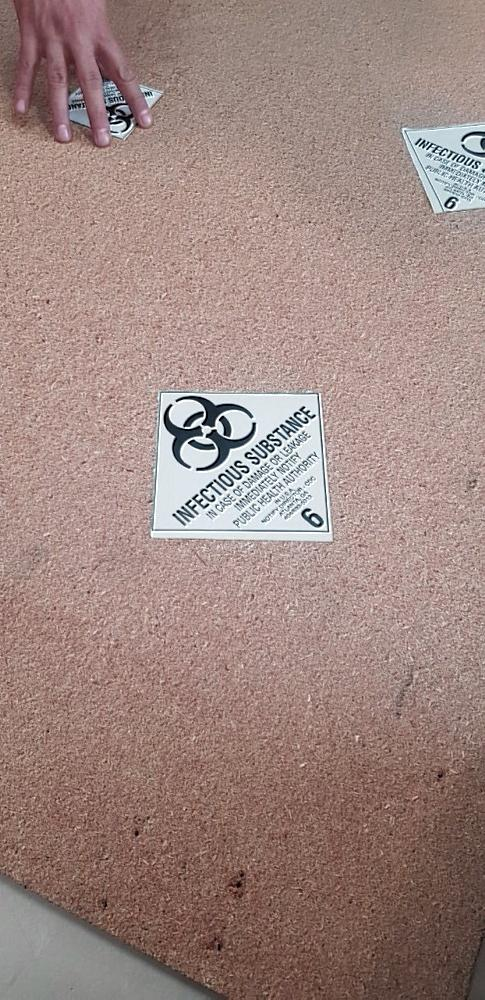infectious-substance: (151, 391, 328, 539), (61, 75, 164, 143), (406, 127, 485, 215)
